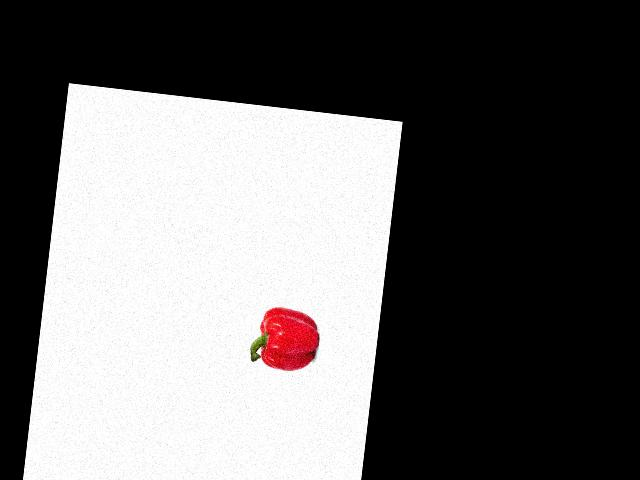bell_pepper: (246, 300, 322, 375)
